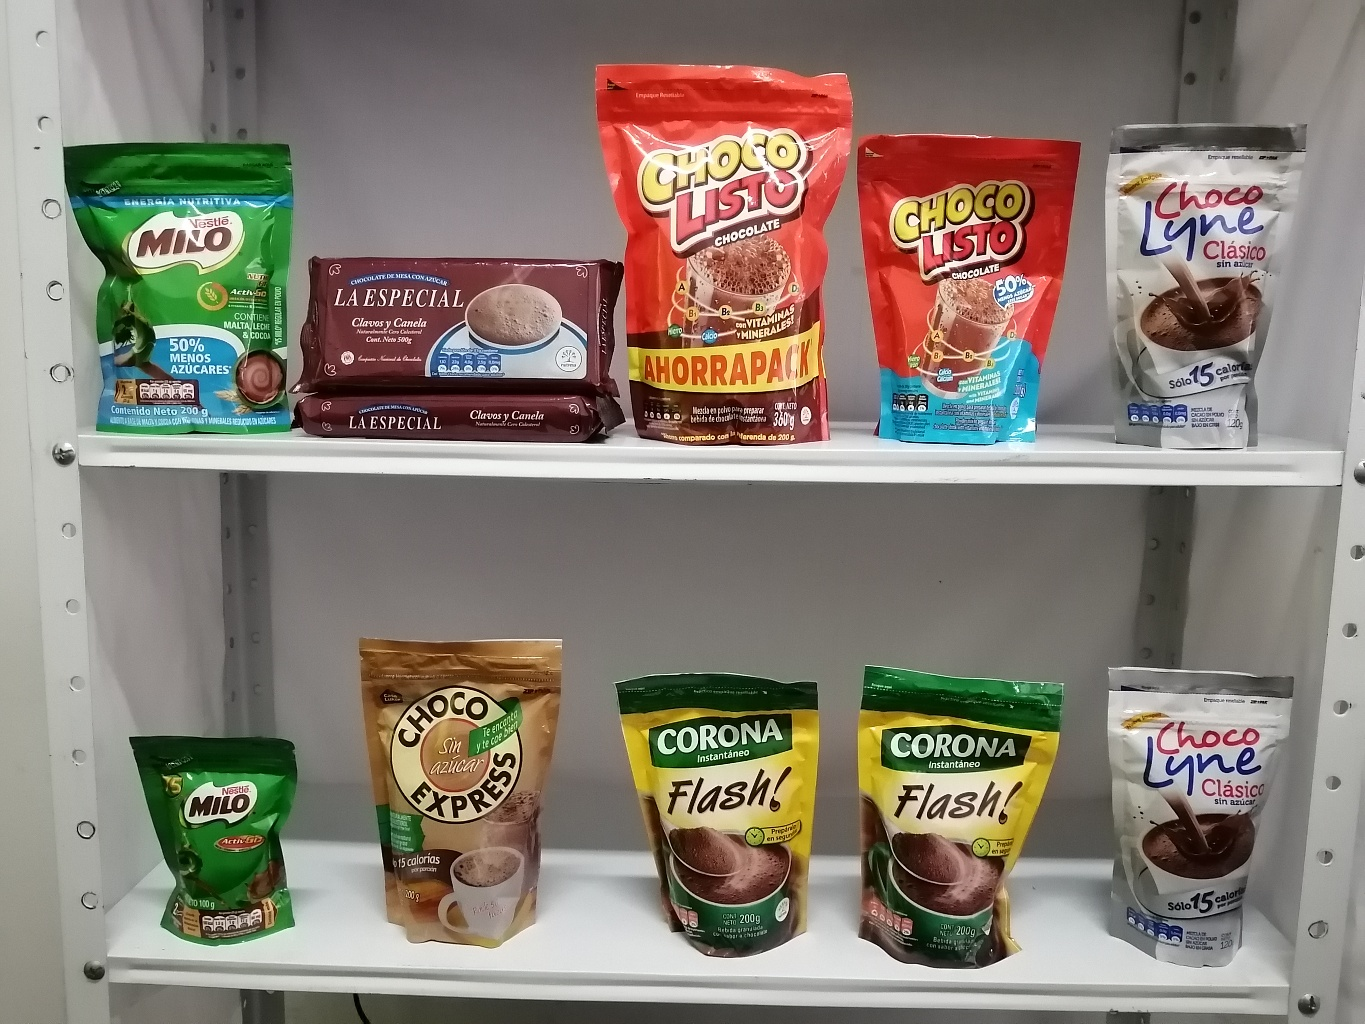COL0170103DYP36000: (596, 52, 857, 447)
COL0170104DYP20000: (861, 123, 1089, 455)
COL0170203DYP10000: (128, 723, 304, 944)
COL0170205DYP20000: (63, 132, 295, 433)
